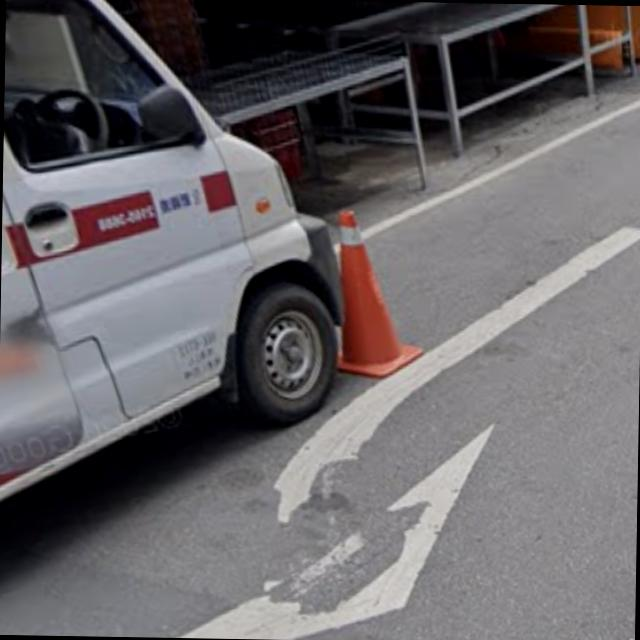cone: (328, 197, 427, 381)
